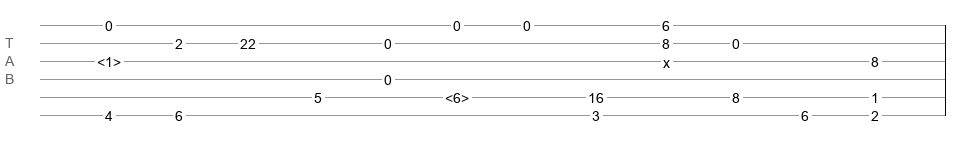0: (105, 18, 113, 28), (384, 72, 392, 82), (384, 36, 392, 46), (453, 18, 461, 28), (523, 18, 531, 28), (732, 36, 740, 46)
1: (871, 90, 879, 100)
16: (588, 90, 604, 100)
2: (175, 36, 183, 46), (871, 108, 879, 118)
22: (240, 36, 256, 46)
3: (592, 108, 600, 118)
4: (105, 108, 113, 118)
5: (314, 90, 322, 100)
6: (175, 108, 183, 118), (662, 18, 670, 28), (801, 108, 809, 118)
8: (662, 36, 670, 46), (732, 90, 740, 100), (871, 54, 879, 64)
harmonic: (97, 54, 121, 64), (445, 90, 469, 100)
x: (663, 55, 670, 63)
